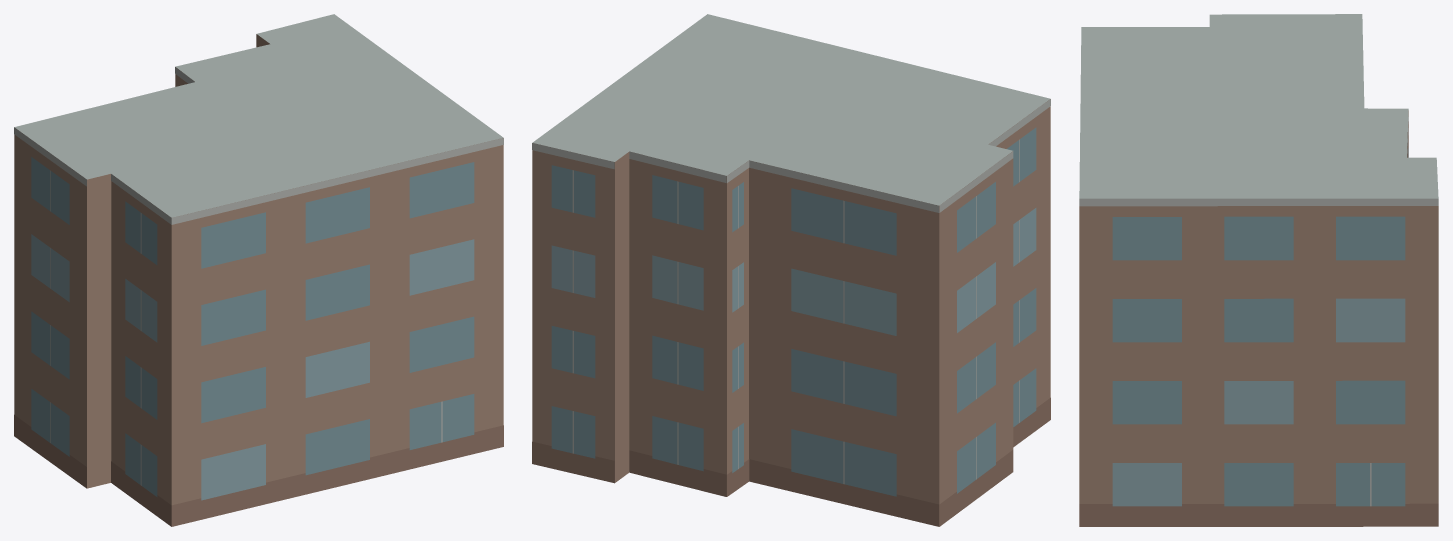
File: survey-upis-32707872.glb
The picture shows the model from 3 angles, left to right: view 1: azimuth 30°, elevation 25°; view 2: azimuth 150°, elevation 25°; view 3: azimuth 270°, elevation 25°; orthographic projection. The views are drawn at different scales.
Parts seen in each view (by area): view 1: survey-upis-32707872.tmp; view 2: survey-upis-32707872.tmp; view 3: survey-upis-32707872.tmp.
Boxes of the visible parts, box(x1,y1,x2,y2) form: survey-upis-32707872.tmp: box(14, 14, 503, 526); survey-upis-32707872.tmp: box(532, 14, 1050, 526); survey-upis-32707872.tmp: box(1079, 14, 1438, 526).
Bounding box in the file's own units: 12.8 × 10.6 × 10.53.
